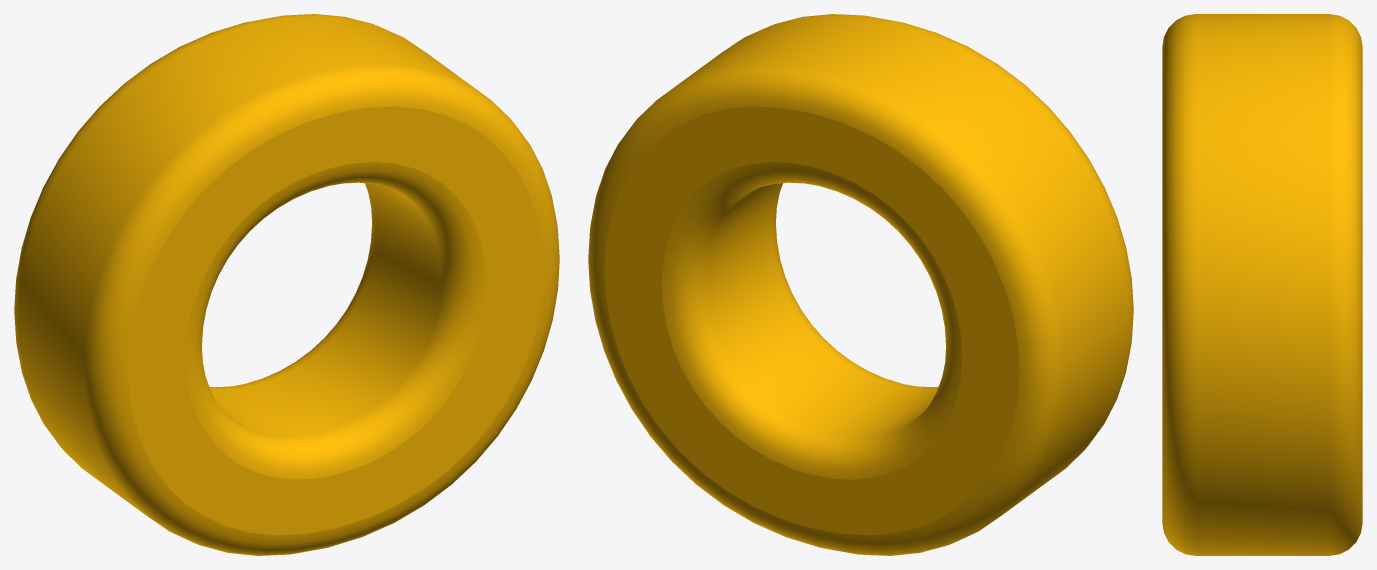
The picture shows the model from 3 angles, left to right: view 1: azimuth 30°, elevation 25°; view 2: azimuth 150°, elevation 25°; view 3: azimuth 270°, elevation 25°; orthographic projection. The views are drawn at different scales.
Parts seen in each view (by area): view 1: Text; view 2: Text; view 3: Text.
Part boxes in pixels (bbox=[...]): Text: bbox=[14, 14, 559, 555]; Text: bbox=[588, 14, 1133, 555]; Text: bbox=[1162, 14, 1362, 555].
Bounding box in the file's own units: 2.5 × 2.4 × 0.9.
